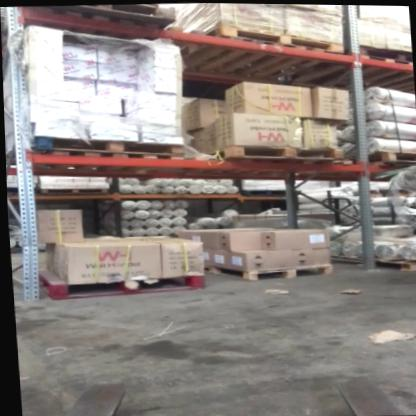vertical_damage: (19, 233, 41, 263)
